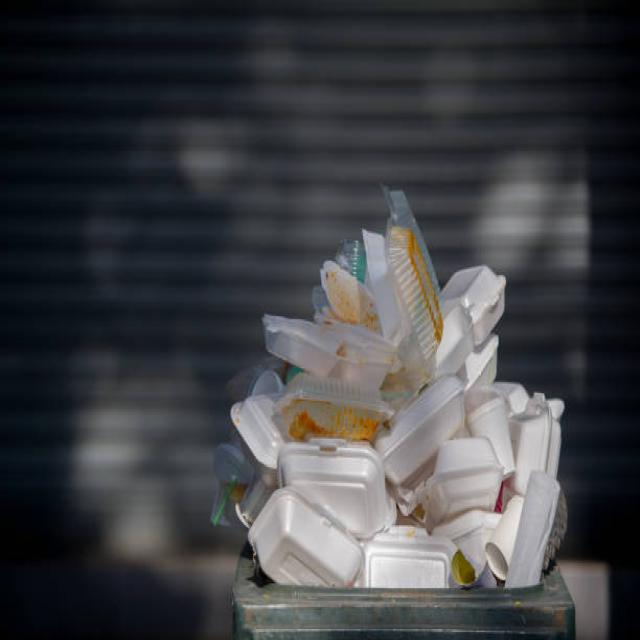plastic: (267, 274, 533, 564)
